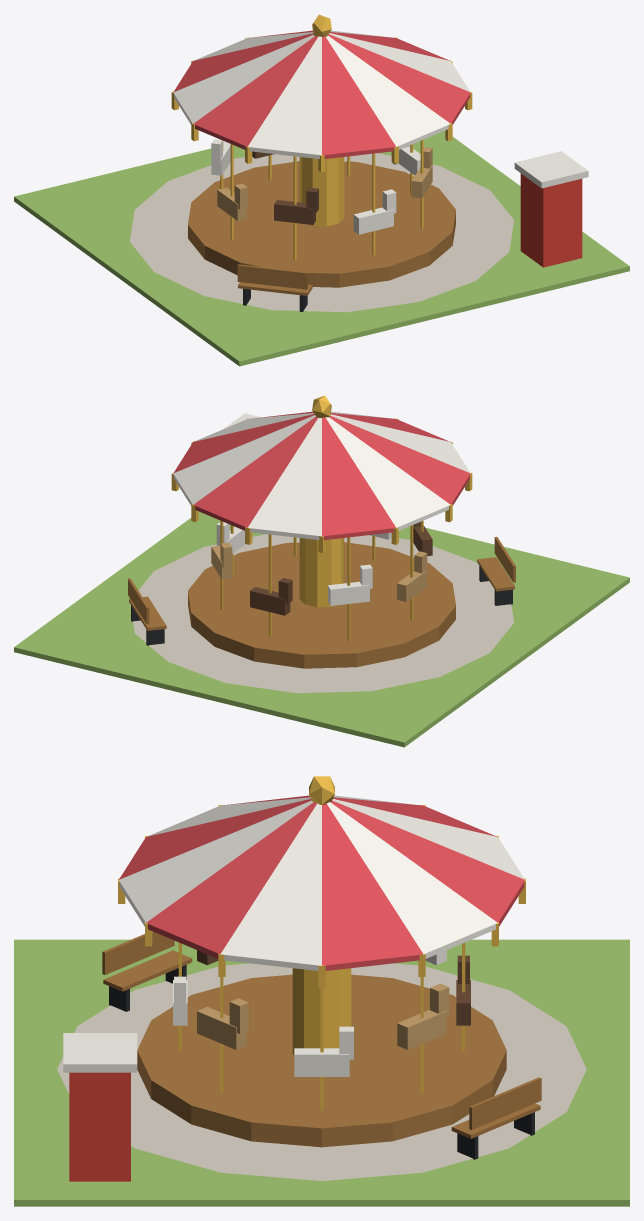
Rendered from Park_cim_atlikarinca_Hafif.fbx.
3 views of the same model, one above another, from view 1: azimuth 30°, elevation 25°; view 2: azimuth 150°, elevation 25°; view 3: azimuth 270°, elevation 25° (orthographic). The views are drawn at different scales.
Visible parts, largest first — view 1: Park_cim_atlikarinca_Hafif; view 2: Park_cim_atlikarinca_Hafif; view 3: Park_cim_atlikarinca_Hafif.
Boxes of the visible parts, box(x1,y1,x2,y2) form: Park_cim_atlikarinca_Hafif: box(14, 14, 629, 366); Park_cim_atlikarinca_Hafif: box(14, 395, 629, 747); Park_cim_atlikarinca_Hafif: box(14, 776, 629, 1206).
Bounding box in the file's own units: 10 × 5.38 × 10.
